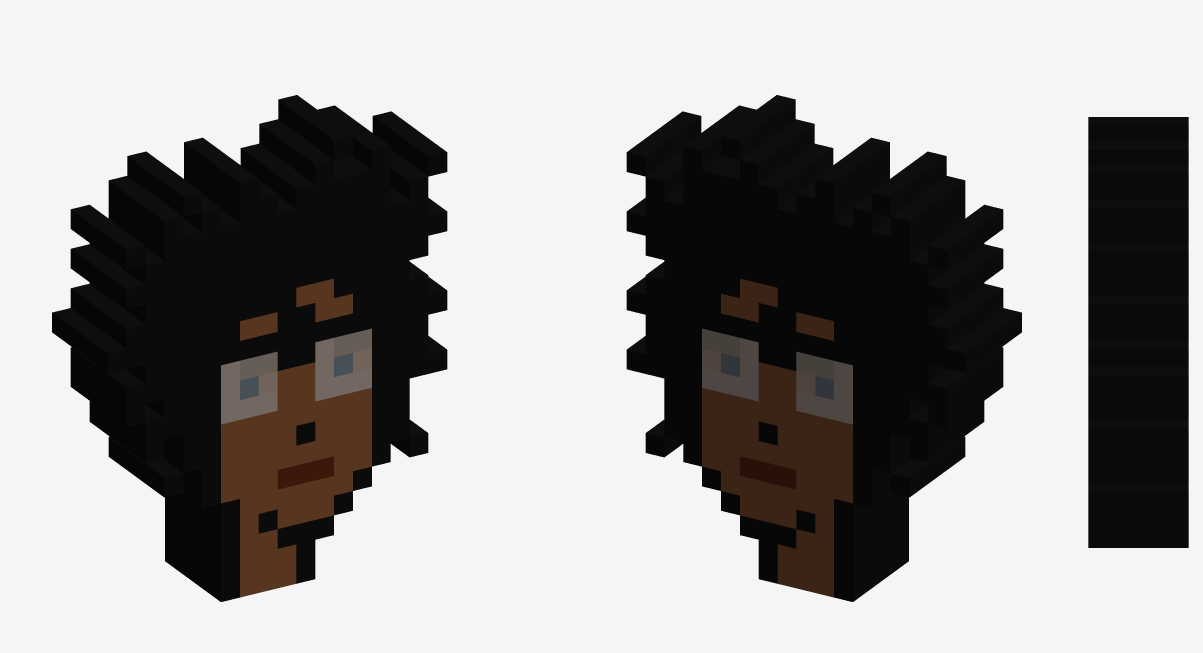
File: ARPunk4149.glb
The picture shows the model from 3 angles, left to right: view 1: azimuth 30°, elevation 25°; view 2: azimuth 150°, elevation 25°; view 3: azimuth 270°, elevation 25°; orthographic projection. The views are drawn at different scales.
Visible parts, largest first — view 1: Mesh_336.003, Mesh_432.003, Mesh_384.003, Mesh_458.003, Mesh_493.003, Mesh_487.003, Mesh_313.003, Mesh_488.003, Mesh_522.003, Mesh_473.003, Mesh_465.003, Mesh_146.003 (+18 smaller); view 2: Mesh_336.003, Mesh_432.003, Mesh_384.003, Mesh_458.003, Mesh_493.003, Mesh_487.003, Mesh_313.003, Mesh_488.003, Mesh_522.003, Mesh_473.003, Mesh_465.003, Mesh_146.003 (+18 smaller); view 3: Mesh_140.003, Mesh_305.003, Mesh_332.003, Mesh_401.003, Mesh_473.003, Mesh_495.003, Mesh_522.003, Mesh_233.003, Mesh_487.003, Mesh_488.003, Mesh_0.003, Mesh_158.003 (+13 smaller).
Boxes of the visible parts, x1=… form: Mesh_336.003: x1=70, y1=283, x2=145, y2=348; Mesh_432.003: x1=70, y1=204, x2=145, y2=269; Mesh_384.003: x1=70, y1=244, x2=145, y2=309; Mesh_458.003: x1=108, y1=176, x2=183, y2=240; Mesh_493.003: x1=259, y1=119, x2=333, y2=184; Mesh_487.003: x1=127, y1=151, x2=201, y2=216; Mesh_313.003: x1=52, y1=308, x2=126, y2=372; Mesh_488.003: x1=184, y1=137, x2=258, y2=202; Mesh_522.003: x1=278, y1=95, x2=352, y2=159; Mesh_473.003: x1=372, y1=111, x2=447, y2=176; Mesh_465.003: x1=240, y1=143, x2=315, y2=208; Mesh_146.003: x1=108, y1=436, x2=183, y2=497; Mesh_336.003: x1=928, y1=283, x2=1003, y2=348; Mesh_432.003: x1=928, y1=204, x2=1003, y2=269; Mesh_384.003: x1=928, y1=244, x2=1003, y2=309; Mesh_458.003: x1=890, y1=176, x2=965, y2=240; Mesh_493.003: x1=740, y1=119, x2=814, y2=184; Mesh_487.003: x1=872, y1=151, x2=946, y2=216; Mesh_313.003: x1=947, y1=308, x2=1021, y2=372; Mesh_488.003: x1=815, y1=137, x2=889, y2=202; Mesh_522.003: x1=721, y1=95, x2=795, y2=159; Mesh_473.003: x1=626, y1=111, x2=701, y2=176; Mesh_465.003: x1=758, y1=143, x2=833, y2=208; Mesh_146.003: x1=890, y1=436, x2=965, y2=497; Mesh_140.003: x1=1088, y1=482, x2=1188, y2=508; Mesh_305.003: x1=1088, y1=366, x2=1188, y2=392; Mesh_332.003: x1=1088, y1=340, x2=1188, y2=366; Mesh_401.003: x1=1088, y1=295, x2=1188, y2=321; Mesh_473.003: x1=1088, y1=242, x2=1188, y2=268; Mesh_495.003: x1=1088, y1=199, x2=1188, y2=225; Mesh_522.003: x1=1088, y1=165, x2=1188, y2=191; Mesh_233.003: x1=1088, y1=420, x2=1188, y2=445; Mesh_487.003: x1=1088, y1=117, x2=1188, y2=141; Mesh_488.003: x1=1088, y1=141, x2=1188, y2=165; Mesh_0.003: x1=1088, y1=530, x2=1188, y2=547; Mesh_158.003: x1=1088, y1=465, x2=1188, y2=482.
Size of the model in its own units: 24 by 24 by 5.13.
1 material, 1 textured.
